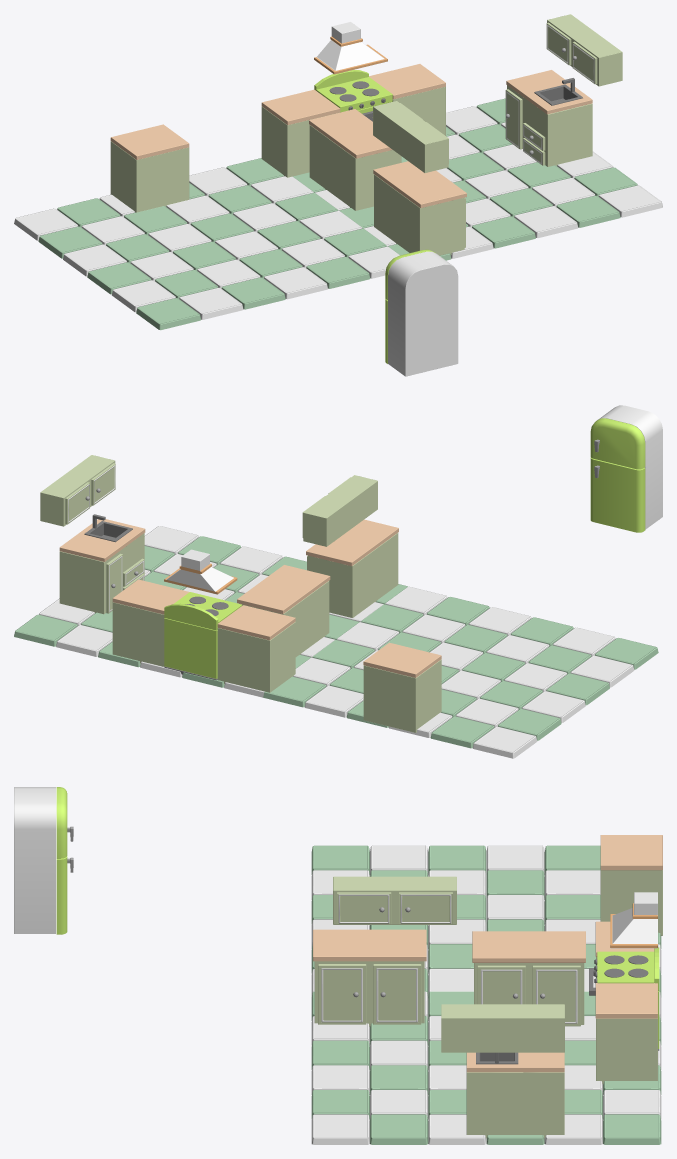
Rendered from Kitchen.fbx.
3 views of the same model, one above another, from view 1: azimuth 30°, elevation 25°; view 2: azimuth 150°, elevation 25°; view 3: azimuth 270°, elevation 25° (orthographic). The views are drawn at different scales.
Parts seen in each view (by area): view 1: Floor tile.001, Floor tile, Fridge, Counter, Counter with sink, Counter.001, Counter corner.002, Counter corner.001, Wall shelf, Wall shelf.001, Counter corner, Stove (+1 smaller); view 2: Floor tile.001, Floor tile, Fridge, Counter with sink, Counter, Counter corner.002, Counter corner.001, Stove, Counter.001, Counter corner, Wall shelf, Wall shelf.001 (+1 smaller); view 3: Floor tile, Floor tile.001, Counter, Counter.001, Counter with sink, Fridge, Counter corner, Wall shelf.001, Wall shelf, Counter corner.002, Stove, Hood (+1 smaller).
Part boxes in pixels (x1,y1,x2,y2): Floor tile.001: (14, 158, 399, 330); Floor tile: (293, 98, 662, 260); Fridge: (385, 249, 458, 376); Counter: (373, 161, 466, 255); Counter with sink: (505, 70, 592, 166); Counter.001: (309, 109, 401, 210); Counter corner.002: (110, 124, 189, 212); Counter corner.001: (261, 89, 340, 177); Wall shelf: (546, 14, 622, 86); Wall shelf.001: (373, 101, 448, 172); Counter corner: (369, 64, 445, 135); Stove: (314, 70, 392, 121); Floor tile.001: (263, 586, 658, 758); Floor tile: (14, 526, 407, 697); Fridge: (590, 405, 662, 532); Counter with sink: (59, 514, 145, 614); Counter: (306, 519, 398, 617); Counter corner.002: (363, 642, 441, 732); Counter corner.001: (217, 605, 295, 692); Stove: (164, 592, 242, 680); Counter.001: (237, 565, 330, 656); Counter corner: (112, 579, 189, 666); Wall shelf: (40, 455, 115, 526); Wall shelf.001: (302, 475, 377, 546); Floor tile: (311, 991, 661, 1144); Floor tile.001: (311, 845, 661, 997); Counter: (313, 929, 426, 1026); Counter.001: (472, 931, 585, 1026); Counter with sink: (466, 1052, 564, 1138); Fridge: (14, 787, 73, 934); Counter corner: (595, 983, 657, 1084); Wall shelf.001: (333, 876, 456, 924); Wall shelf: (441, 1004, 564, 1052); Counter corner.002: (600, 835, 662, 935); Stove: (589, 947, 659, 1050); Hood: (610, 892, 657, 948).
Bounding box in the file's own units: 1468 × 327 × 1336.
